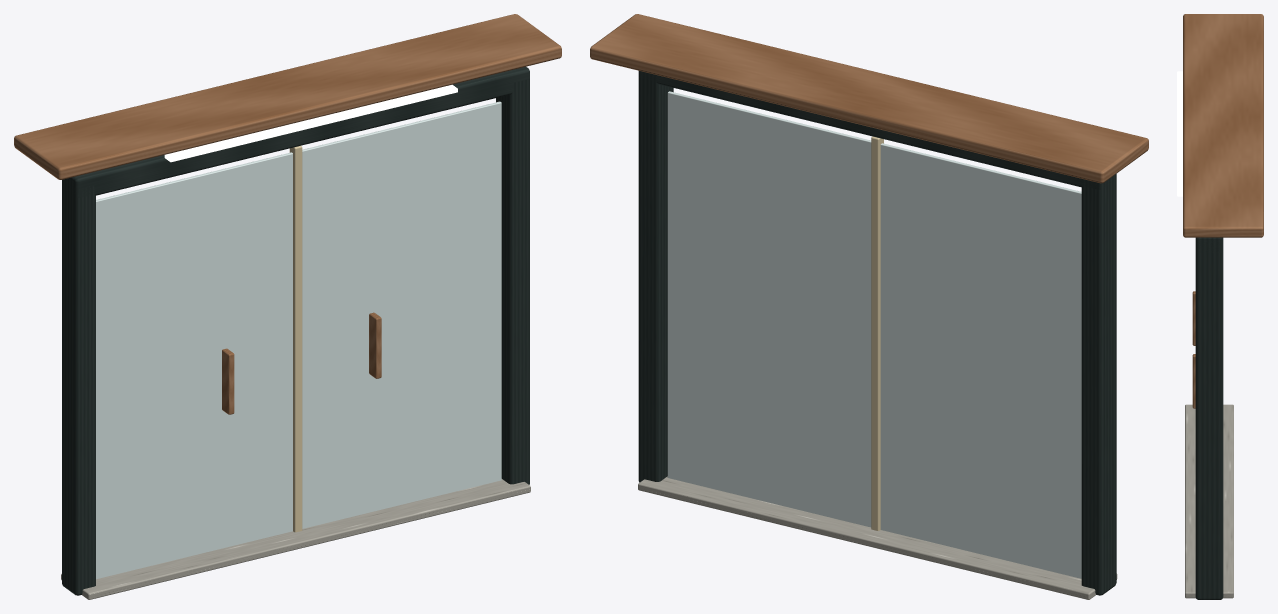
Rendered from entry-portal.glb.
3 renders of one model, left to right at view 1: azimuth 30°, elevation 25°; view 2: azimuth 150°, elevation 25°; view 3: azimuth 270°, elevation 25°, orthographic. The views are drawn at different scales.
Visible parts, largest first — view 1: Entry_Glass_Right, Entry_Glass_Left, Entry_Canopy, Entry_Left, Entry_Right, Entry_Header, Entry_Threshold, Entry_Mullion, Entry_Canopy_Light, Entry_Handle_-1.88, Entry_Handle_1.88; view 2: Entry_Glass_Right, Entry_Glass_Left, Entry_Canopy, Entry_Left, Entry_Right, Entry_Threshold, Entry_Header, Entry_Mullion; view 3: Entry_Canopy, Entry_Right, Entry_Threshold, Entry_Canopy_Light, Entry_Header, Entry_Handle_1.88, Entry_Handle_-1.88.
Boxes of the visible parts, left/top/right/bottom form: Entry_Glass_Right: left=302, top=101, right=501, bottom=528; Entry_Glass_Left: left=96, top=152, right=292, bottom=579; Entry_Canopy: left=14, top=14, right=561, bottom=179; Entry_Left: left=62, top=185, right=95, bottom=595; Entry_Right: left=496, top=78, right=529, bottom=484; Entry_Header: left=62, top=66, right=529, bottom=197; Entry_Threshold: left=61, top=479, right=530, bottom=599; Entry_Mullion: left=289, top=145, right=302, bottom=532; Entry_Canopy_Light: left=164, top=84, right=457, bottom=162; Entry_Handle_-1.88: left=222, top=348, right=234, bottom=414; Entry_Handle_1.88: left=369, top=312, right=381, bottom=378; Entry_Glass_Right: left=667, top=91, right=871, bottom=527; Entry_Glass_Left: left=880, top=143, right=1081, bottom=578; Entry_Canopy: left=590, top=14, right=1148, bottom=183; Entry_Left: left=1081, top=176, right=1116, bottom=595; Entry_Right: left=638, top=71, right=673, bottom=482; Entry_Threshold: left=638, top=476, right=1117, bottom=599; Entry_Header: left=638, top=71, right=1116, bottom=189; Entry_Mullion: left=871, top=136, right=883, bottom=530; Entry_Canopy: left=1183, top=14, right=1263, bottom=237; Entry_Right: left=1195, top=244, right=1223, bottom=599; Entry_Threshold: left=1185, top=404, right=1233, bottom=598; Entry_Canopy_Light: left=1177, top=71, right=1182, bottom=196; Entry_Header: left=1195, top=237, right=1223, bottom=252; Entry_Handle_1.88: left=1192, top=354, right=1195, bottom=408; Entry_Handle_-1.88: left=1192, top=291, right=1195, bottom=345.
Size of the model in its own units: 9.1 by 7.6 by 1.56.
Materials: 6 (3 with a texture image).
